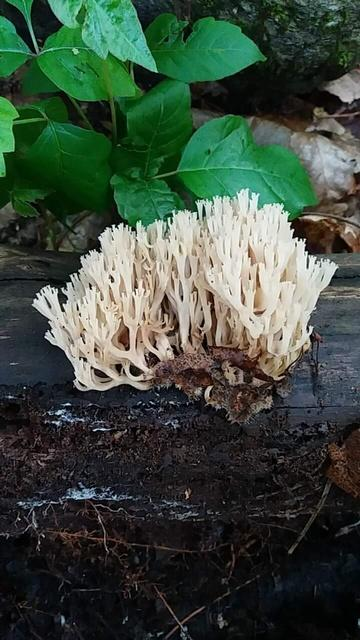Edible Mushroom: (30, 187, 339, 396)
